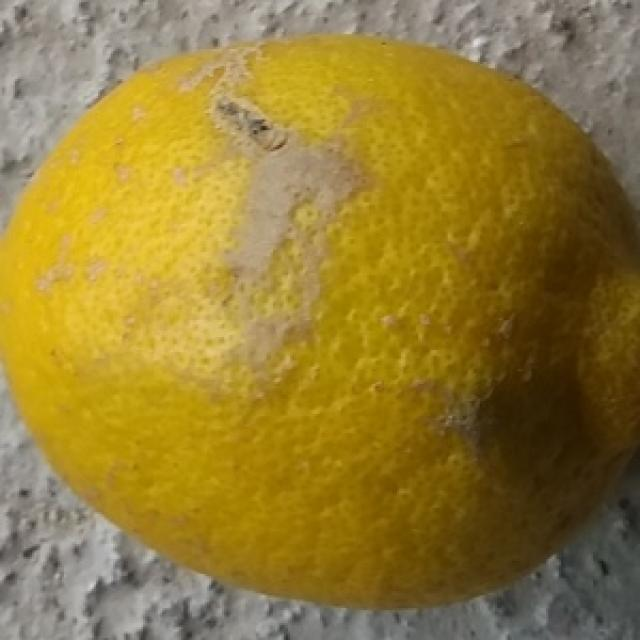overripe: (0, 25, 640, 615)
